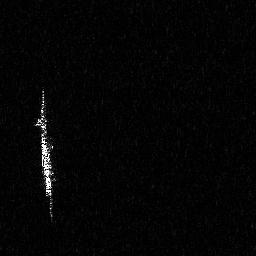ship: (33, 87, 59, 224)
